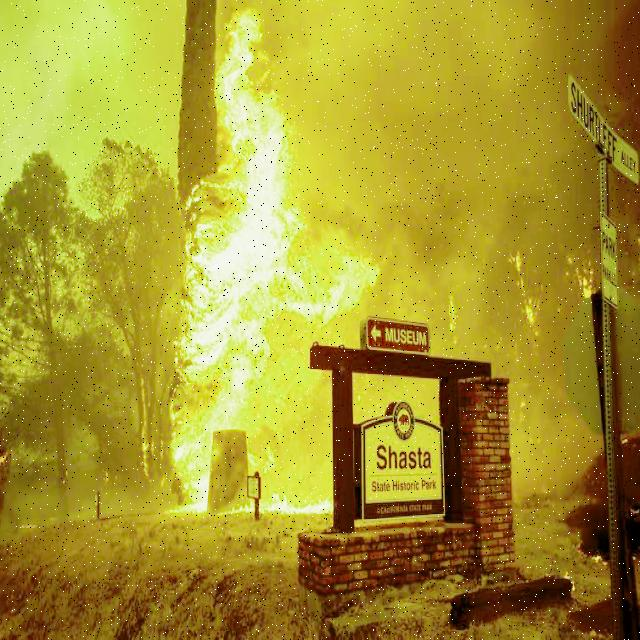api: (221, 6, 289, 430), (173, 197, 222, 515), (295, 214, 374, 323), (276, 490, 333, 526), (577, 269, 599, 307)
asap: (286, 1, 616, 223), (1, 2, 184, 179)
